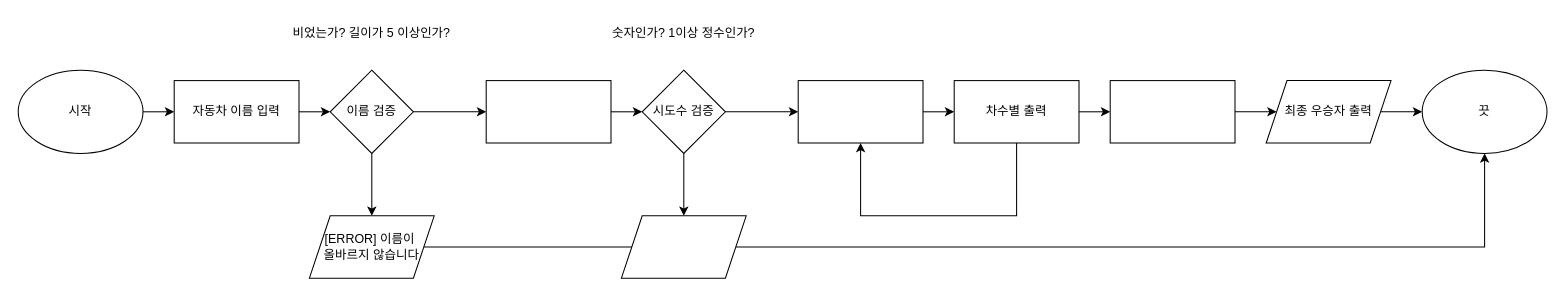
The diagram is 1565 pixels wide and 296 high, and some of its shapes have lost their labels. Each missing label, with the centre of its shape:
[ERROR] 시도수가 올바르지 않습니다: (x=683, y=246)
렌덤값 생성: (x=860, y=111)
시도 횟수 입력: (x=548, y=111)
최종 & 공동 우승자 계산: (x=1172, y=111)
